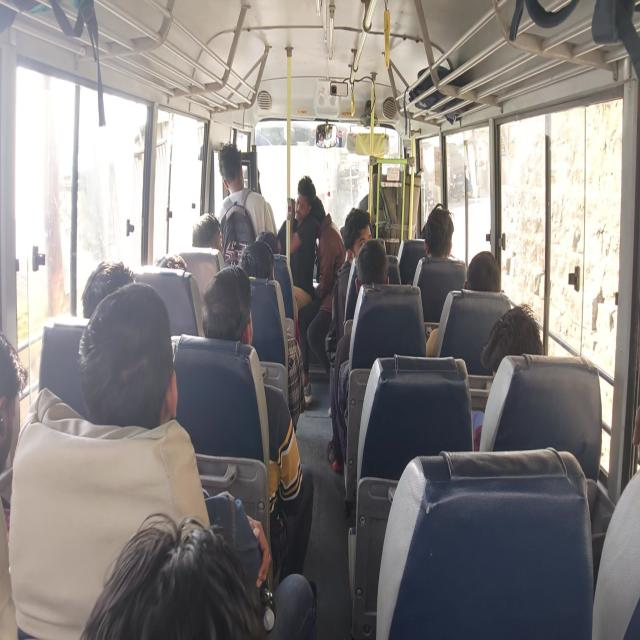person: (78, 511, 270, 637), (333, 234, 395, 471), (77, 280, 174, 430), (437, 252, 502, 365), (0, 325, 27, 503), (161, 220, 225, 294), (481, 303, 545, 376), (200, 262, 252, 348), (81, 260, 138, 321), (422, 203, 456, 260), (342, 204, 372, 266), (354, 236, 388, 290), (465, 251, 501, 293), (242, 238, 274, 282), (368, 162, 391, 220), (191, 212, 223, 253), (221, 146, 241, 203), (256, 230, 280, 258), (157, 254, 188, 271), (357, 194, 369, 214)
